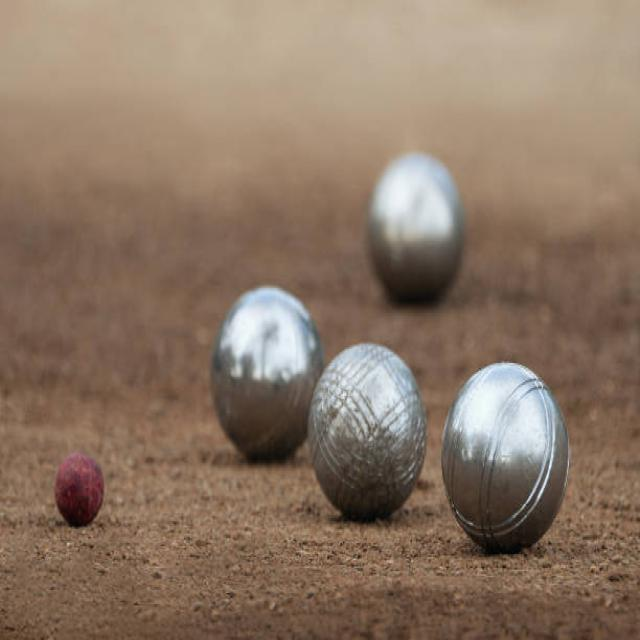hatball: (45, 443, 114, 535)
petanque: (432, 357, 573, 570), (302, 341, 432, 539), (205, 276, 330, 471), (359, 142, 469, 310)
